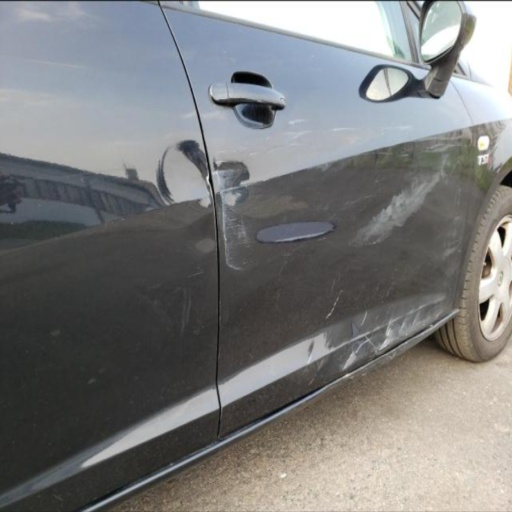dent: (168, 148, 217, 229), (215, 162, 249, 204), (375, 313, 392, 352), (340, 346, 357, 372), (423, 302, 442, 323), (305, 339, 315, 371)
scratch: (302, 289, 454, 388), (347, 153, 450, 249), (212, 159, 256, 272), (436, 183, 466, 260), (319, 284, 346, 324), (337, 189, 380, 214), (179, 284, 193, 336), (281, 131, 315, 147), (324, 289, 340, 320), (421, 134, 460, 144), (423, 143, 458, 154), (354, 336, 370, 355), (370, 277, 384, 296), (330, 125, 357, 134), (342, 351, 354, 371), (188, 268, 207, 280), (366, 337, 379, 352), (384, 280, 397, 295), (370, 150, 394, 158), (392, 124, 411, 133), (246, 149, 260, 160), (288, 118, 307, 125), (362, 308, 369, 326), (385, 318, 391, 335), (308, 345, 313, 364), (400, 151, 410, 160), (411, 311, 417, 325)
